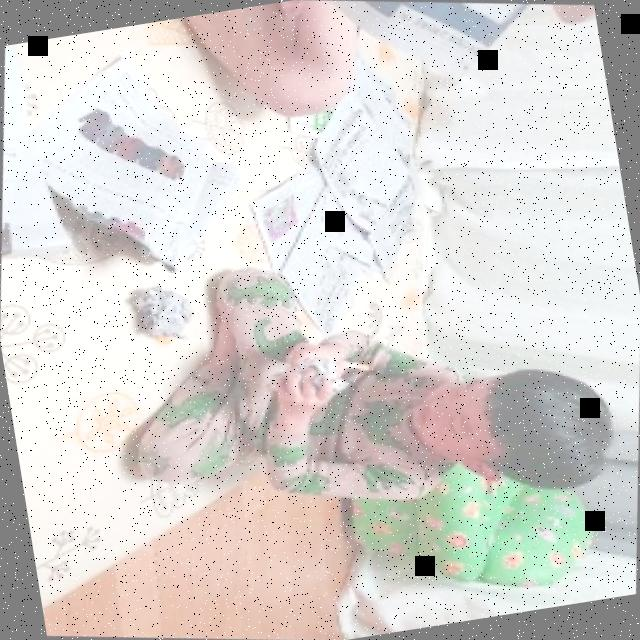reuseable_paper: (262, 81, 444, 305)
